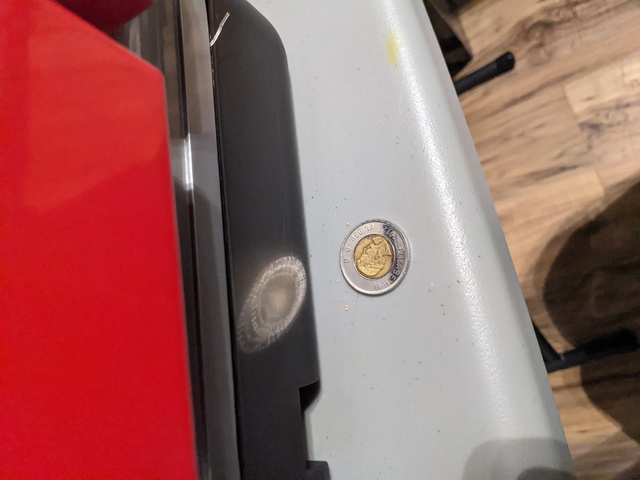twonie: (329, 221, 410, 297)
